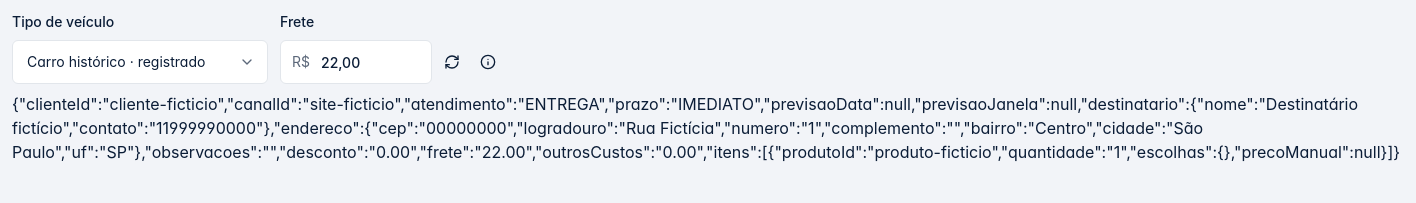
it: Linha compacta de veículo e frete › após recálculo explícito mostra veículo do recibo vigente acima do histórico, sem gravar override
Expected: the dropdown named "Tipo de veículo" shows "Carro histórico · registrado", x1=12 y1=40 x2=268 y2=84
Click the button named "Calcular frete por rota". click: [452, 62]
box: x1=436 y1=46 x2=468 y2=78
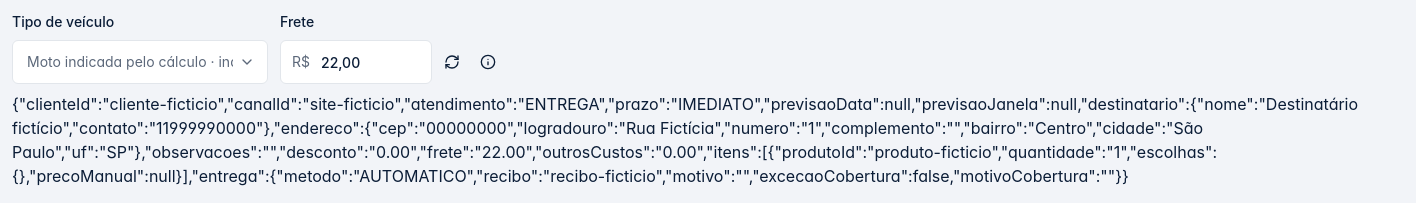
Expected: the dropdown named "Tipo de veículo" shows "Moto indicada pelo cálculo · indicado", x1=12 y1=40 x2=268 y2=84
